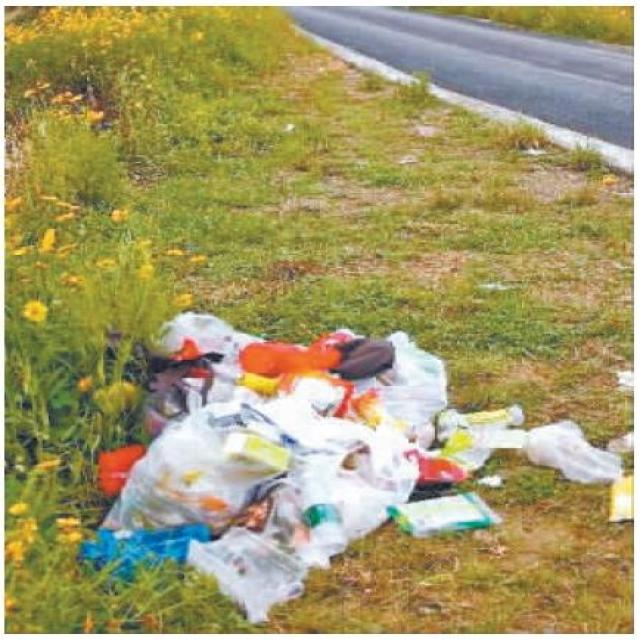garbage: (81, 296, 468, 628), (457, 412, 630, 528)
